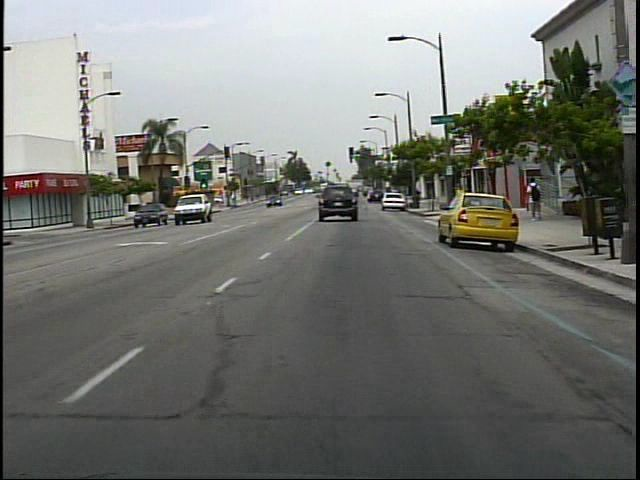person: (519, 172, 547, 225)
